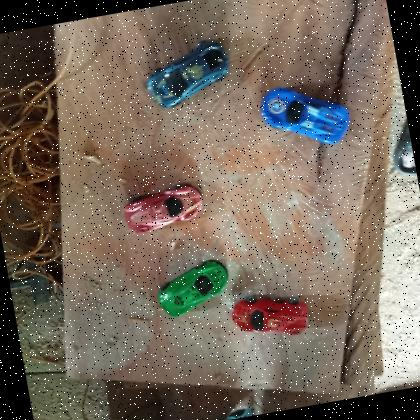Car: (256, 75, 358, 156), (138, 36, 237, 113), (152, 256, 236, 322), (119, 180, 208, 238), (229, 288, 316, 346)
